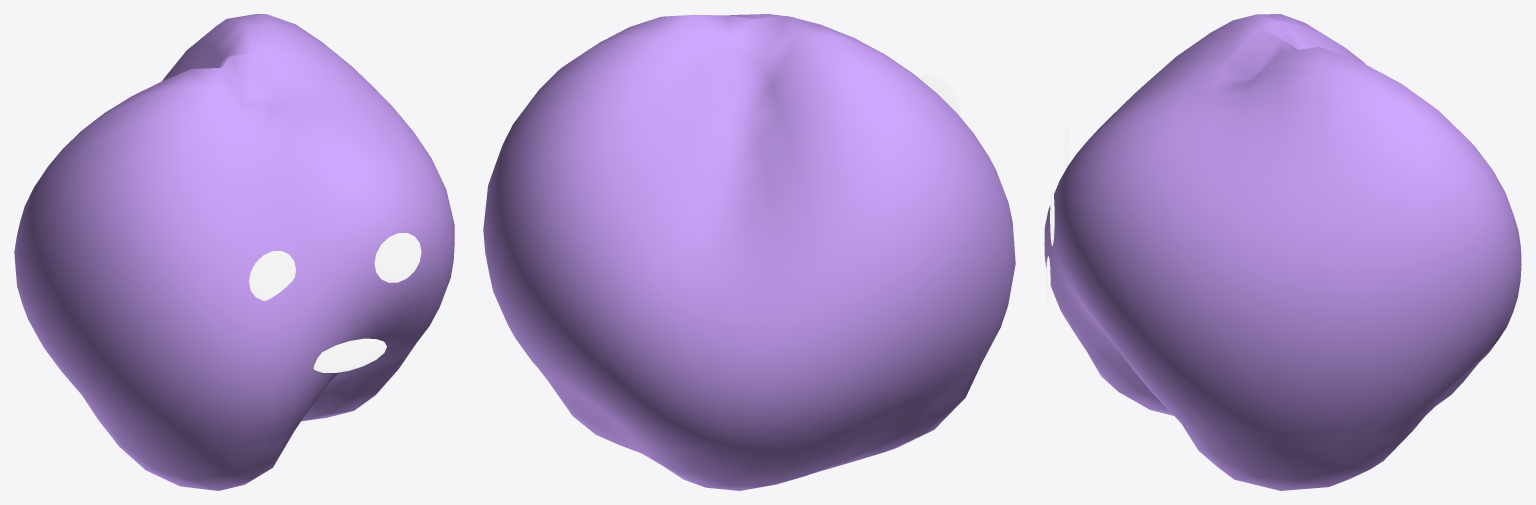
File: jelly_blob.glb
The picture shows the model from 3 angles, left to right: view 1: azimuth 30°, elevation 25°; view 2: azimuth 150°, elevation 25°; view 3: azimuth 270°, elevation 25°; orthographic projection. The views are drawn at different scales.
Visible parts, largest first — view 1: jelly, jelly_face; view 2: jelly, jelly_face; view 3: jelly, jelly_face.
Boxes of the visible parts, bbox=[...] form: jelly: bbox=[14, 14, 454, 490]; jelly_face: bbox=[249, 233, 421, 372]; jelly: bbox=[483, 14, 1015, 490]; jelly_face: bbox=[918, 74, 961, 115]; jelly: bbox=[1044, 14, 1521, 490]; jelly_face: bbox=[1046, 120, 1069, 305].
Bounding box in the file's own units: 2.05 × 1.9 × 2.05.
